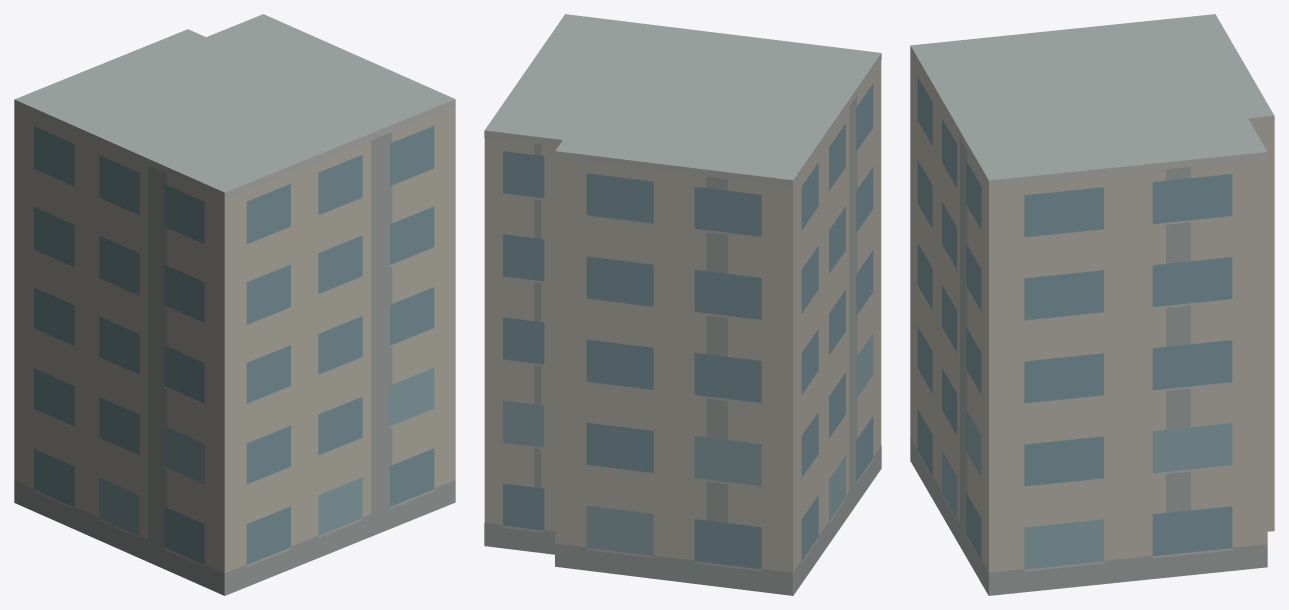
File: survey-upis-32686493.glb
3 views of the same model, side by side, from view 1: azimuth 30°, elevation 25°; view 2: azimuth 150°, elevation 25°; view 3: azimuth 270°, elevation 25° (orthographic). The views are drawn at different scales.
Parts seen in each view (by area): view 1: survey-upis-32686493.tmp; view 2: survey-upis-32686493.tmp; view 3: survey-upis-32686493.tmp.
Part boxes in pixels (x1,y1,x2,y2): survey-upis-32686493.tmp: (14, 14, 455, 595); survey-upis-32686493.tmp: (484, 14, 881, 595); survey-upis-32686493.tmp: (910, 14, 1274, 595).
Size of the model in its own units: 12.22 by 14.2 by 11.29.
